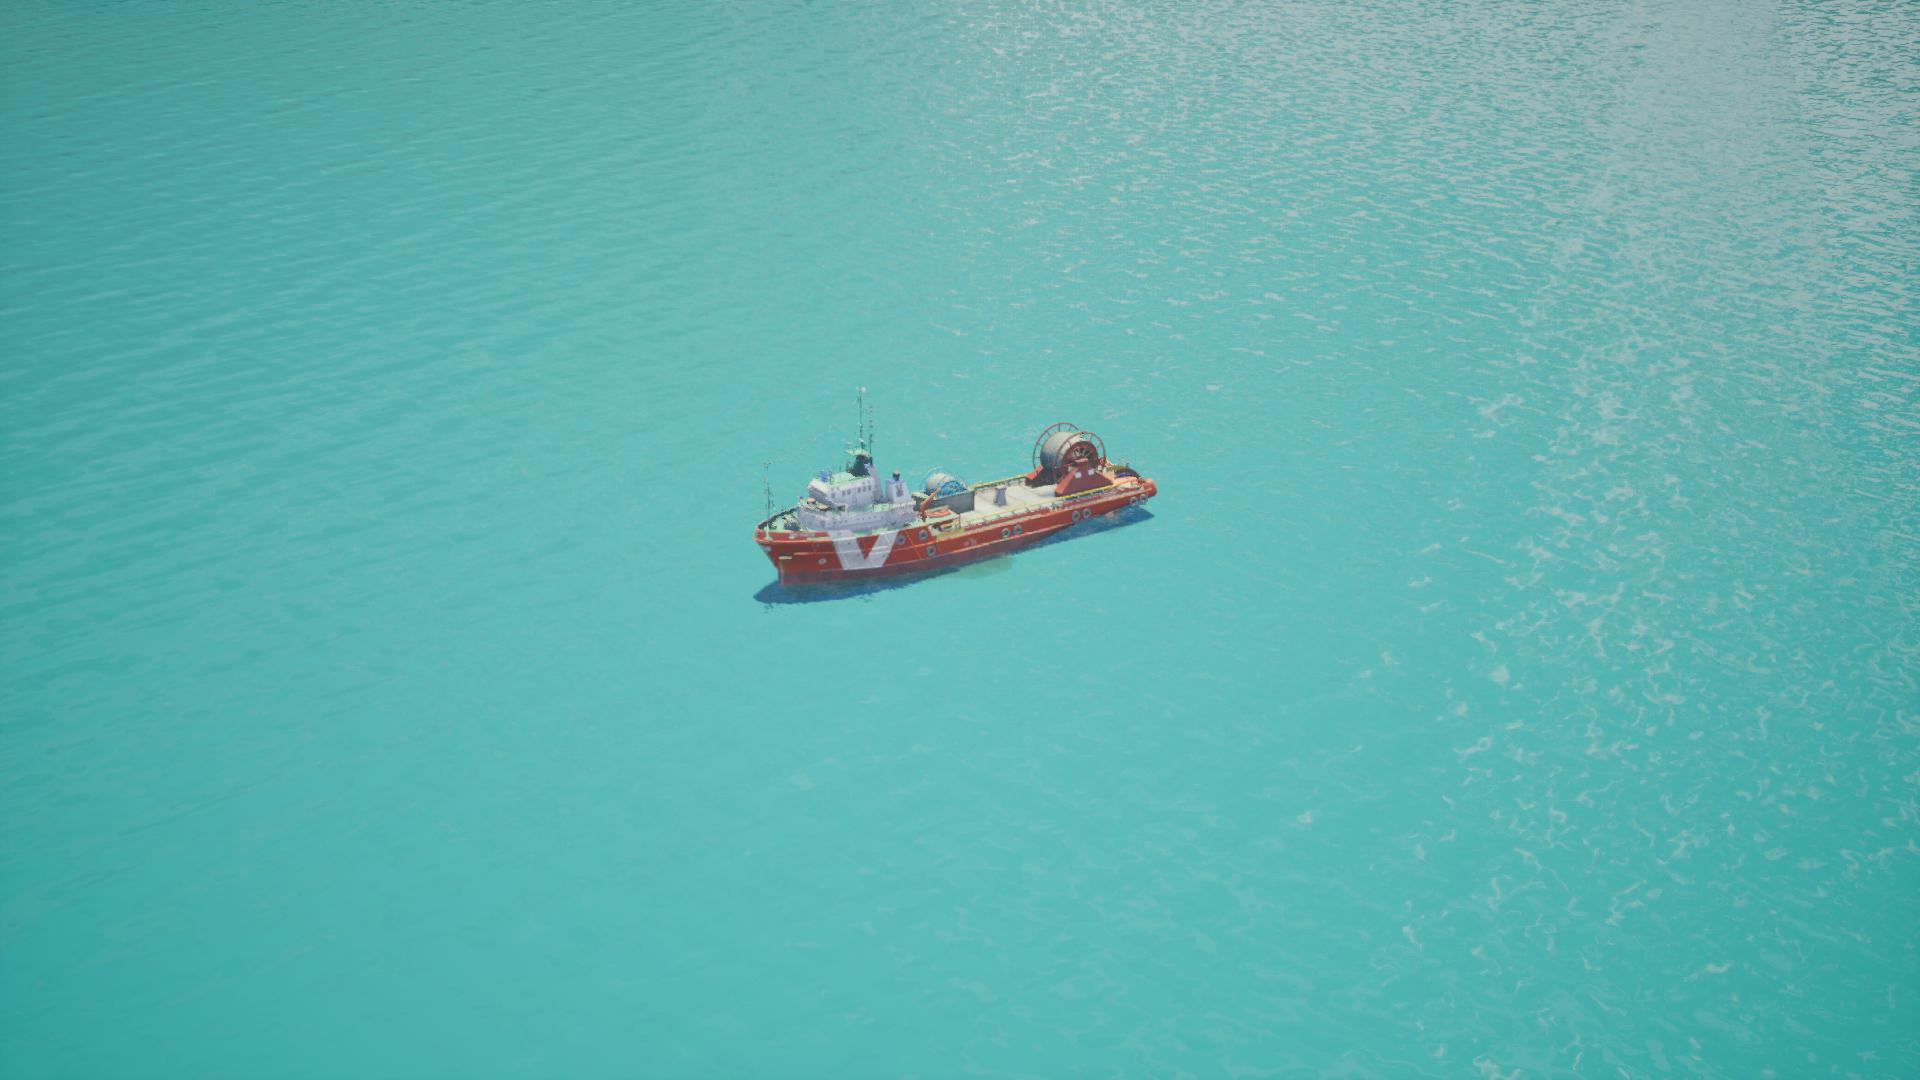Tug Boat: (754, 398, 1156, 606)
